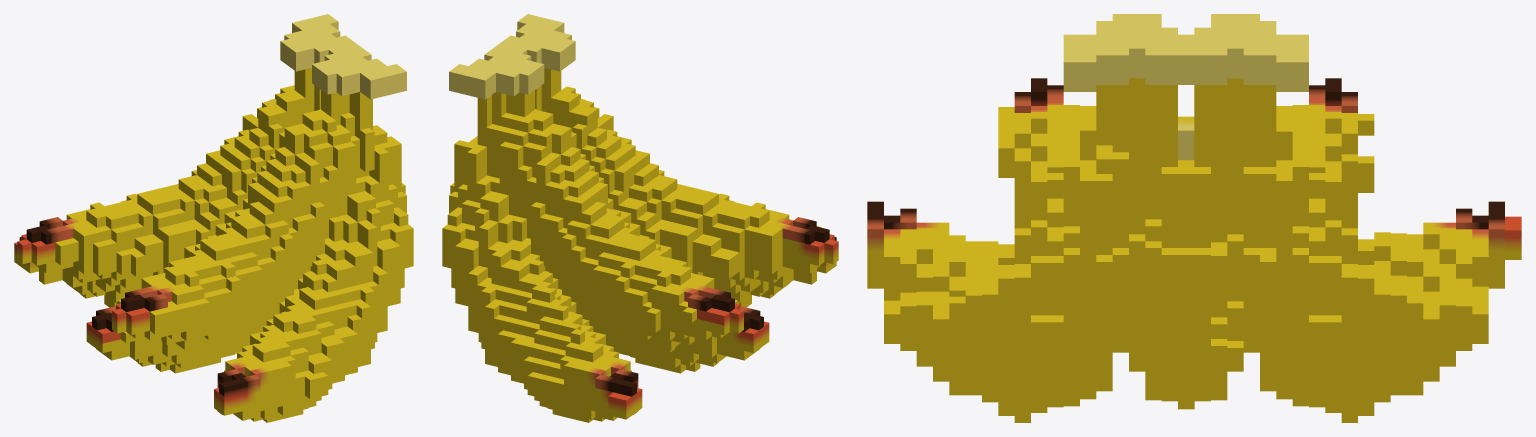
3 views of the same model, side by side, from view 1: azimuth 30°, elevation 25°; view 2: azimuth 150°, elevation 25°; view 3: azimuth 270°, elevation 25° (orthographic). The views are drawn at different scales.
Parts seen in each view (by area): view 1: Voxelized_BananaBundle; view 2: Voxelized_BananaBundle; view 3: Voxelized_BananaBundle.
Boxes of the visible parts, x1,y1,x2,y2 form: Voxelized_BananaBundle: [14, 14, 413, 422]; Voxelized_BananaBundle: [442, 14, 838, 422]; Voxelized_BananaBundle: [867, 14, 1521, 422].
Size of the model in its own units: 34 by 29 by 40.
1 material, 1 textured.
